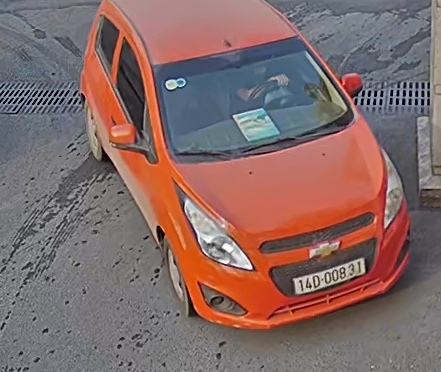vehicle plate: (289, 258, 366, 298)
